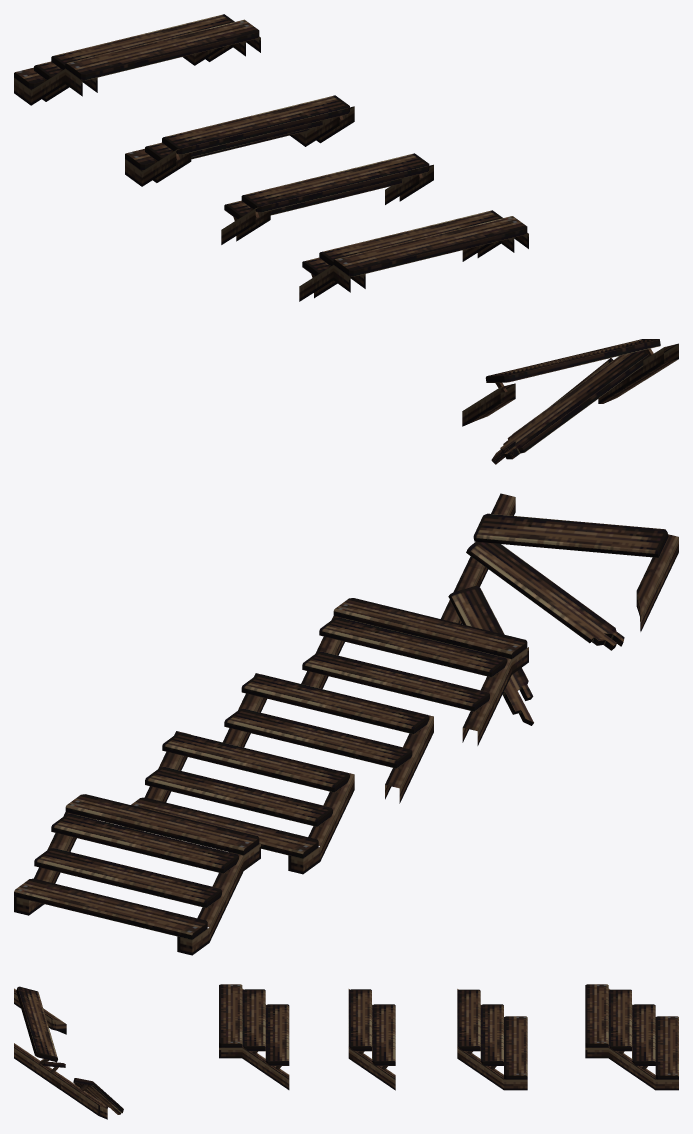
Rendered from EnvMdrMD_ClockTower_Stairs_End.FBX.
3 views of the same model, one above another, from view 1: azimuth 30°, elevation 25°; view 2: azimuth 150°, elevation 25°; view 3: azimuth 270°, elevation 25° (orthographic). The views are drawn at different scales.
Visible parts, largest first — view 1: EnvMdrMD_ClockTower_Stairs_H100, EnvMdrMD_ClockTower_Stairs_Start_Broken, EnvMdrMD_ClockTower_Stairs_End, EnvMdrMD_ClockTower_Stairs_Start, EnvMdrMD_ClockTower_Stairs_Loop; view 2: EnvMdrMD_ClockTower_Stairs_H100, EnvMdrMD_ClockTower_Stairs_Start_Broken, EnvMdrMD_ClockTower_Stairs_End, EnvMdrMD_ClockTower_Stairs_Start, EnvMdrMD_ClockTower_Stairs_Loop; view 3: EnvMdrMD_ClockTower_Stairs_H100, EnvMdrMD_ClockTower_Stairs_End, EnvMdrMD_ClockTower_Stairs_Start, EnvMdrMD_ClockTower_Stairs_Start_Broken, EnvMdrMD_ClockTower_Stairs_Loop.
Boxes of the visible parts, left/top/right/bottom form: EnvMdrMD_ClockTower_Stairs_H100: left=14, top=14, right=260, bottom=105; EnvMdrMD_ClockTower_Stairs_Start_Broken: left=462, top=339, right=678, bottom=464; EnvMdrMD_ClockTower_Stairs_End: left=299, top=210, right=528, bottom=301; EnvMdrMD_ClockTower_Stairs_Start: left=125, top=95, right=354, bottom=186; EnvMdrMD_ClockTower_Stairs_Loop: left=221, top=153, right=433, bottom=244; EnvMdrMD_ClockTower_Stairs_H100: left=14, top=794, right=260, bottom=955; EnvMdrMD_ClockTower_Stairs_Start_Broken: left=441, top=493, right=678, bottom=725; EnvMdrMD_ClockTower_Stairs_End: left=301, top=598, right=528, bottom=745; EnvMdrMD_ClockTower_Stairs_Start: left=126, top=731, right=354, bottom=874; EnvMdrMD_ClockTower_Stairs_Loop: left=222, top=673, right=433, bottom=803; EnvMdrMD_ClockTower_Stairs_H100: left=585, top=984, right=678, bottom=1090; EnvMdrMD_ClockTower_Stairs_End: left=219, top=984, right=289, bottom=1089; EnvMdrMD_ClockTower_Stairs_Start: left=457, top=989, right=527, bottom=1090; EnvMdrMD_ClockTower_Stairs_Start_Broken: left=14, top=986, right=123, bottom=1119; EnvMdrMD_ClockTower_Stairs_Loop: left=348, top=989, right=395, bottom=1090.
Size of the model in its own units: 300 by 254 by 1418.
1 material, 1 textured.
